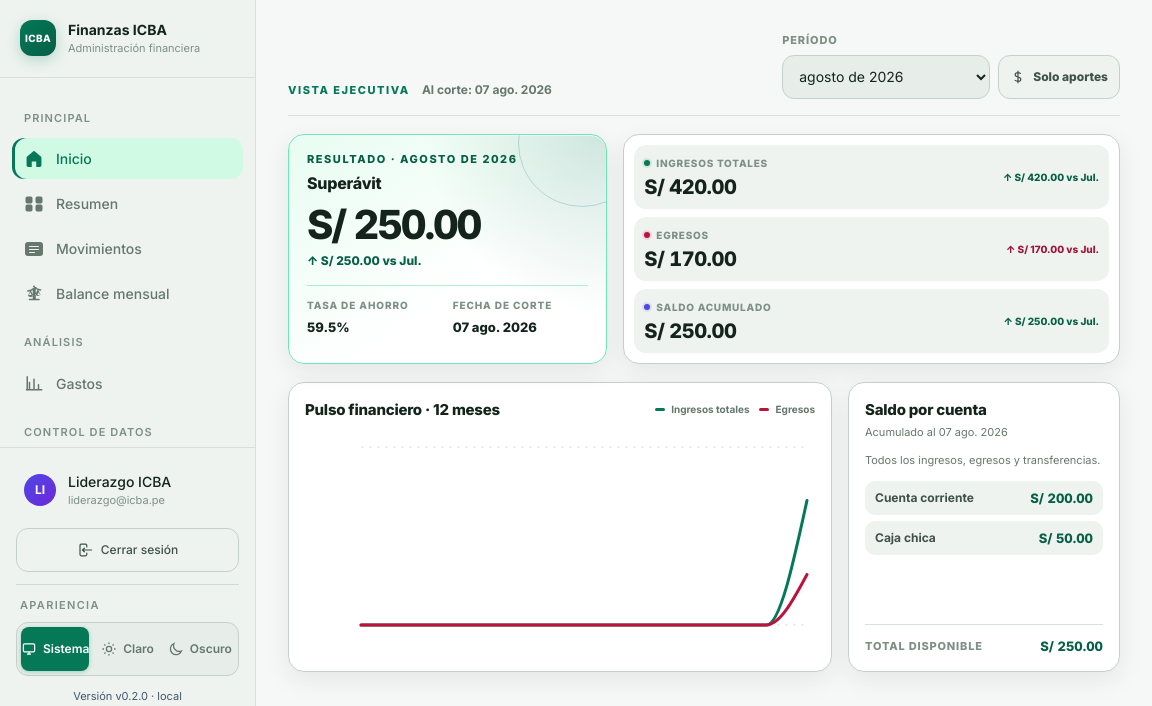
Test case: navegación principal › muestra saldos reales por cuenta y no los altera al filtrar aportes
The width and height of the screenshot is (1152, 706).
Expected: the text "Cuenta corriente" is shown, [875, 489, 974, 507]
Expected: the text "Caja chica" is shown, [875, 529, 936, 547]
Click the button with aria-label "Filtrar por solo aportes: diezmos y ofrendas".
click(1059, 76)  # box [998, 54, 1120, 98]
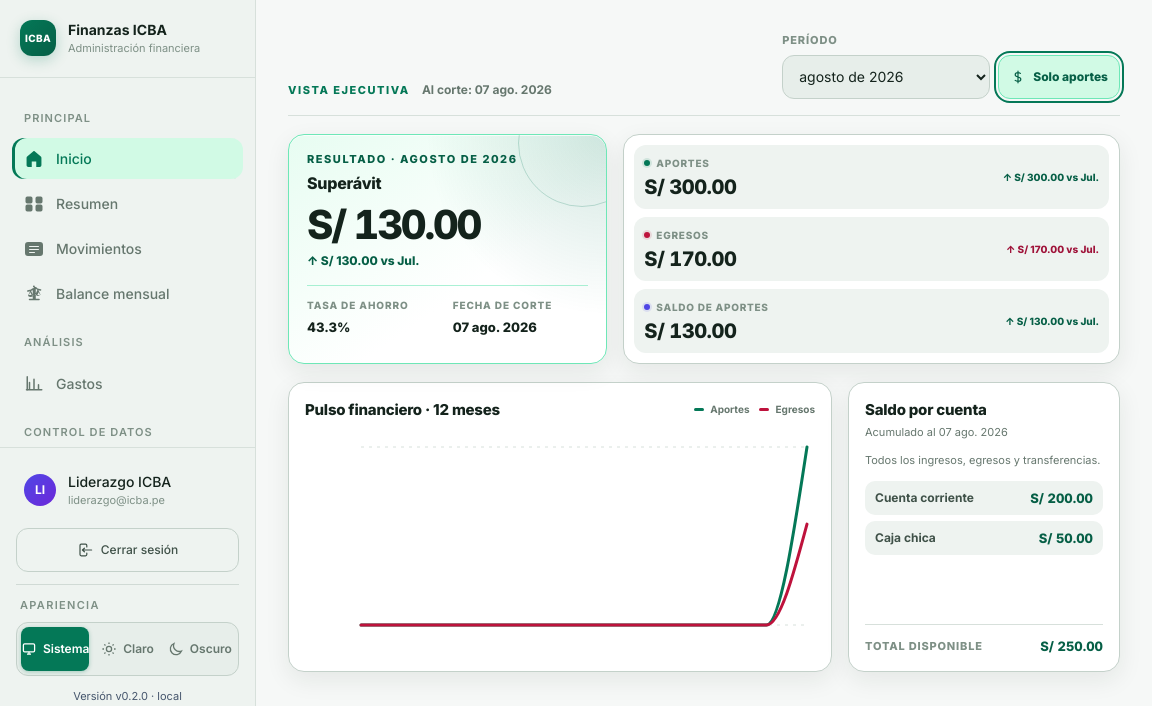
Expected: the text "S/ 250.00" is shown, [1040, 637, 1103, 655]
Expected: the text "Saldo de aportes" is shown, [644, 300, 769, 312]
